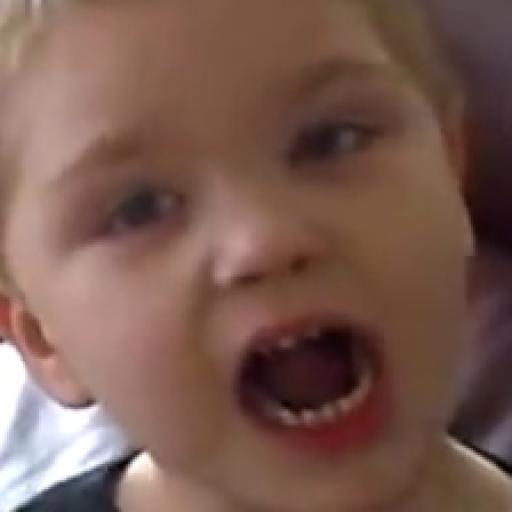Autism: (12, 0, 486, 512)
